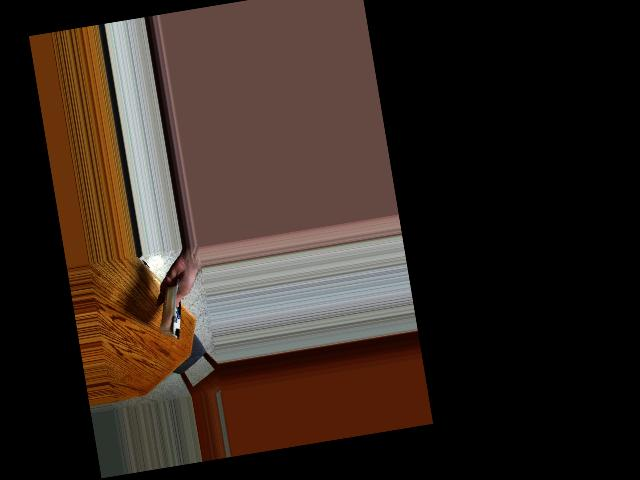cheese: (147, 282, 199, 340)
